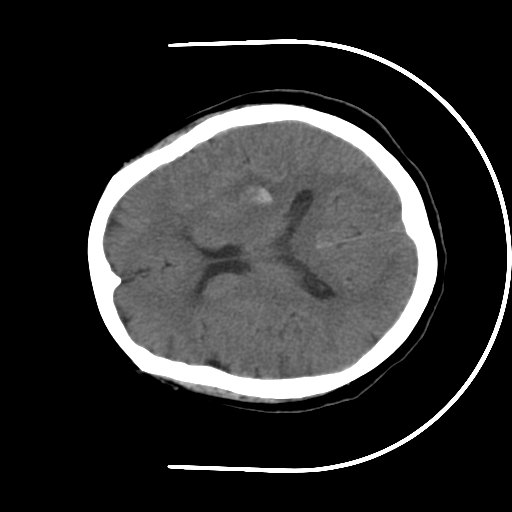a: (210, 164, 288, 220)
